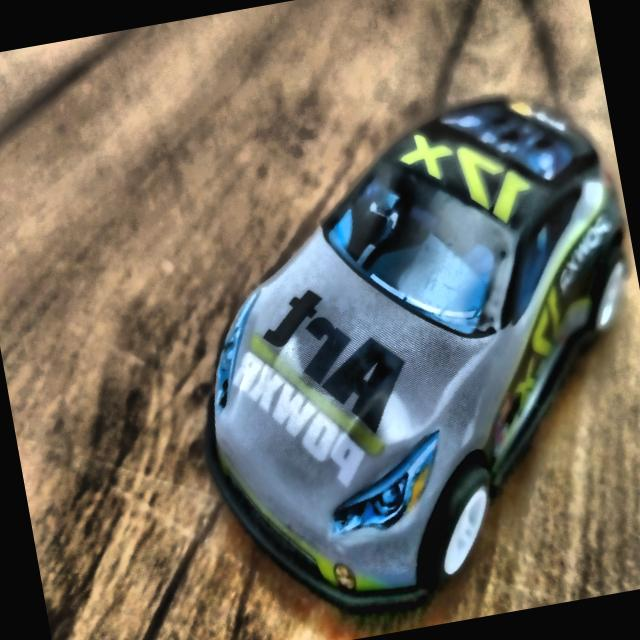Car: (150, 72, 640, 623)
